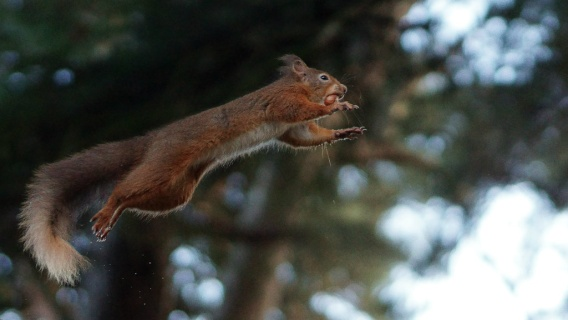Squirrel: (17, 47, 368, 287)
